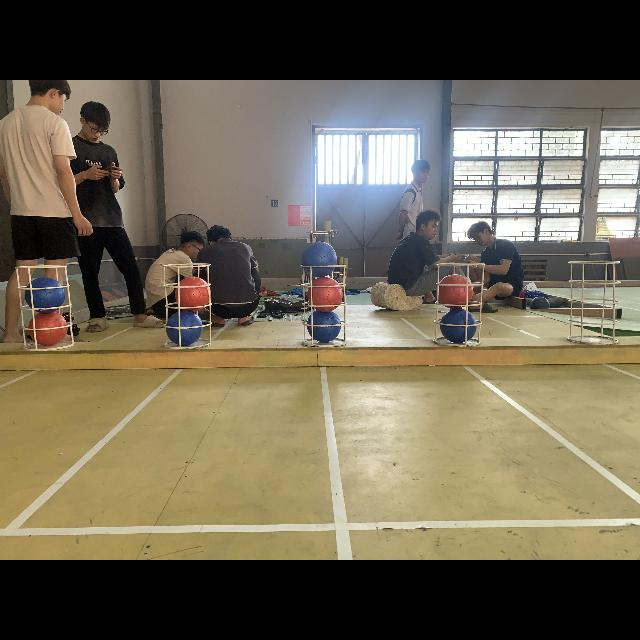B: (24, 277, 64, 313), (164, 312, 206, 346), (306, 310, 342, 344), (302, 242, 338, 276), (442, 308, 476, 344)
R: (27, 313, 67, 347), (173, 276, 211, 310), (306, 277, 342, 311), (437, 275, 473, 309)
